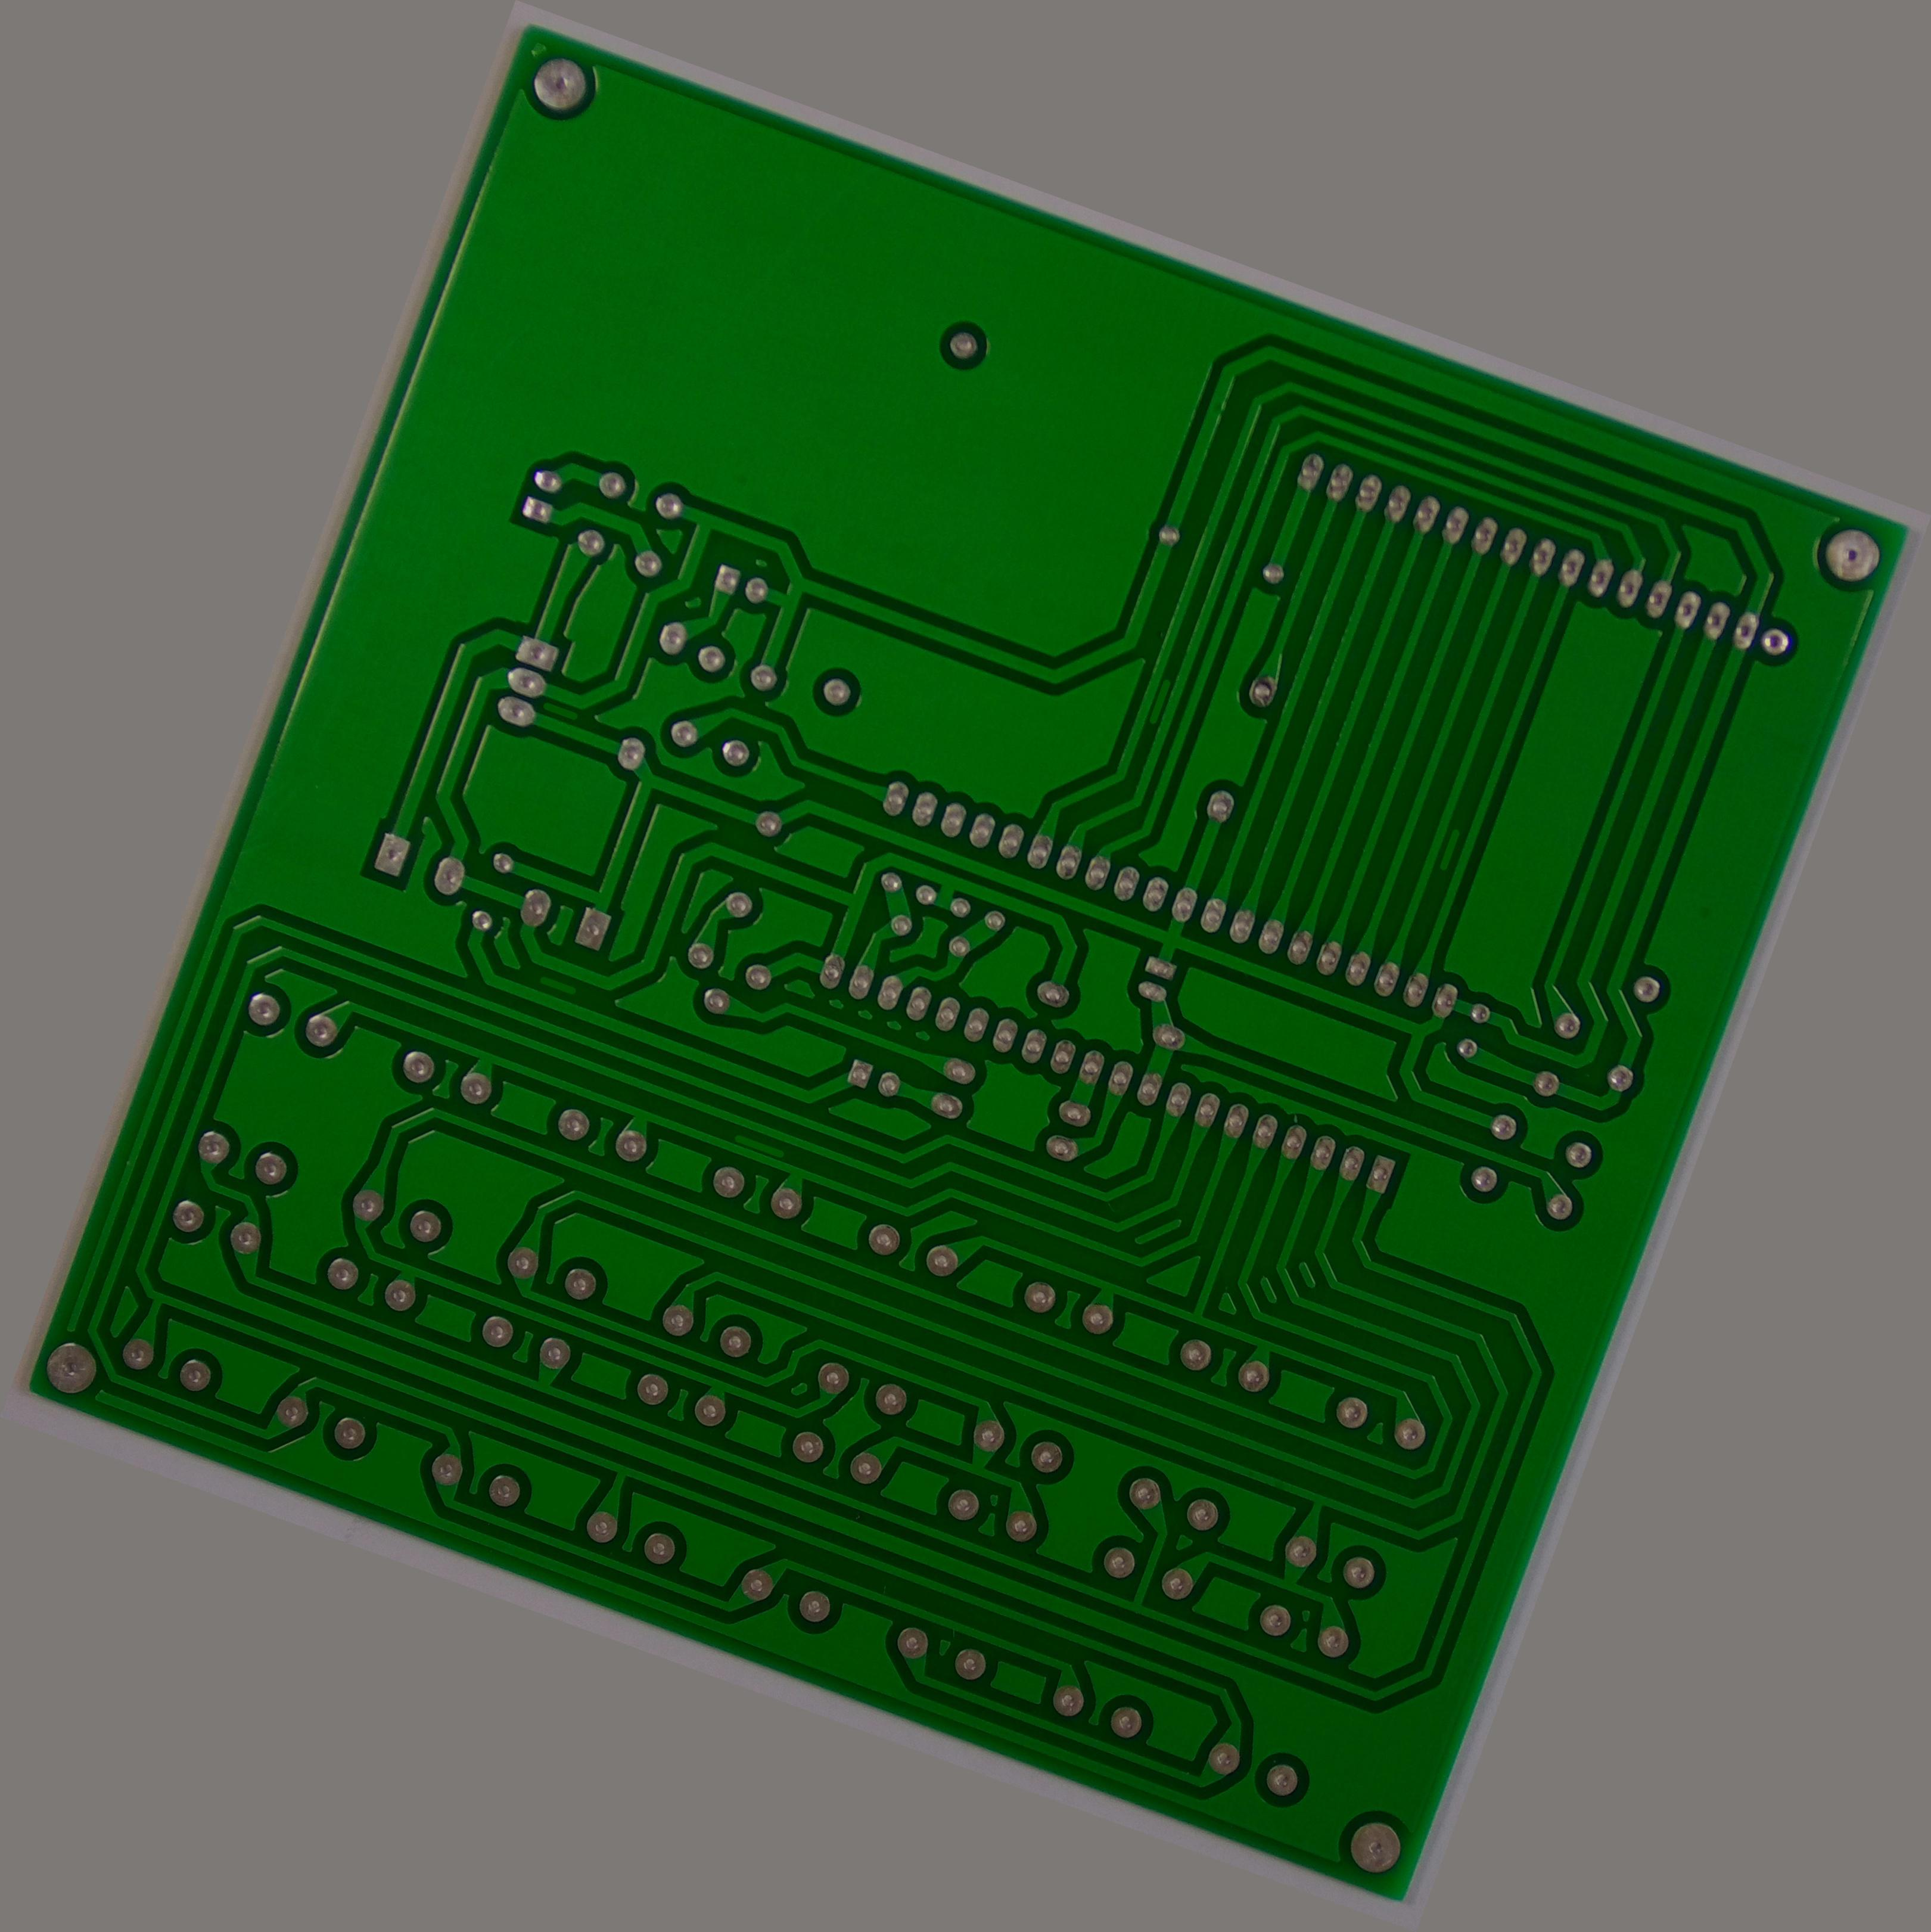spurious_copper: (1133, 667, 1185, 736), (1425, 814, 1475, 883), (721, 1122, 792, 1168), (525, 681, 584, 732), (529, 964, 587, 1010)
